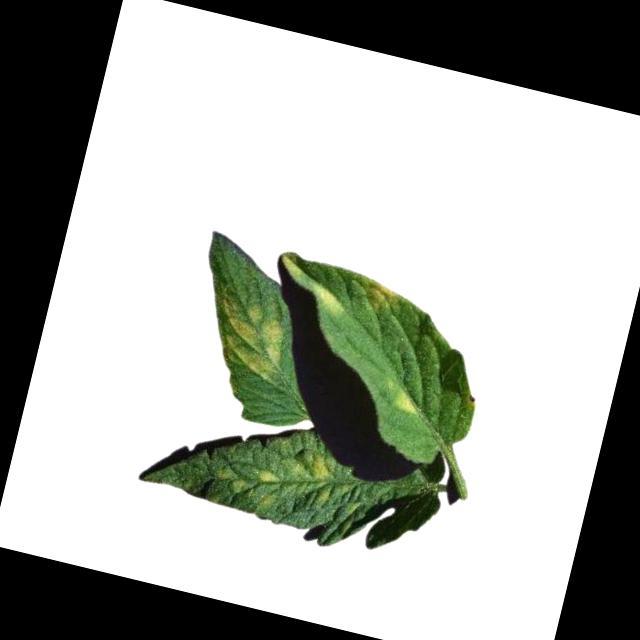Leaf_Mold: (210, 432, 341, 523), (205, 292, 291, 379), (362, 278, 406, 319), (389, 382, 424, 417), (316, 283, 349, 316)
